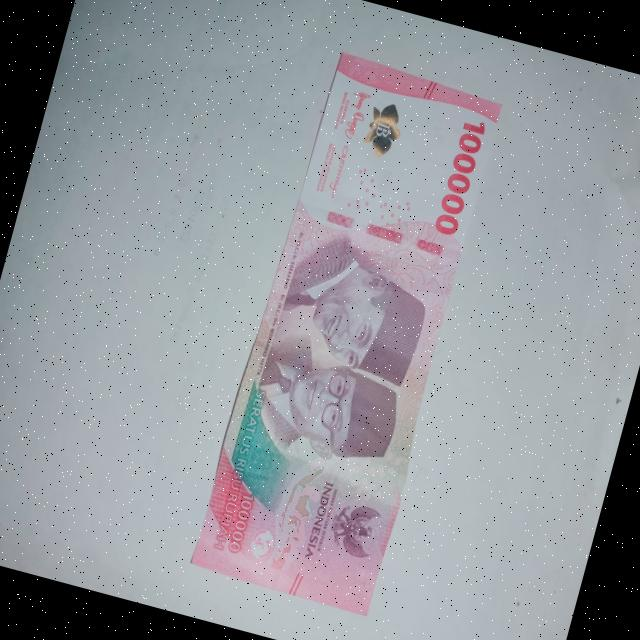100K: (178, 41, 518, 630)
